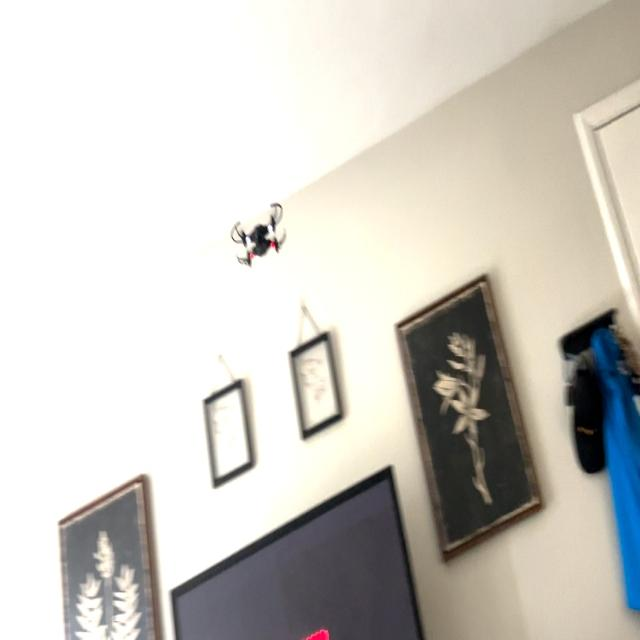drone: (225, 202, 290, 290)
